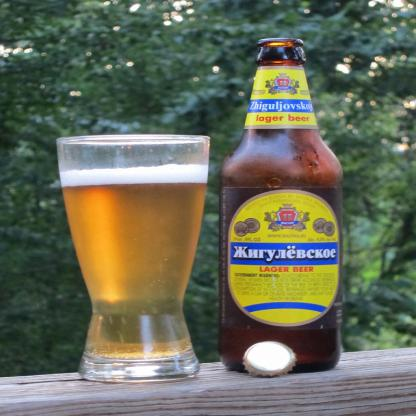drinking: (218, 38, 344, 374), (56, 134, 210, 382)
